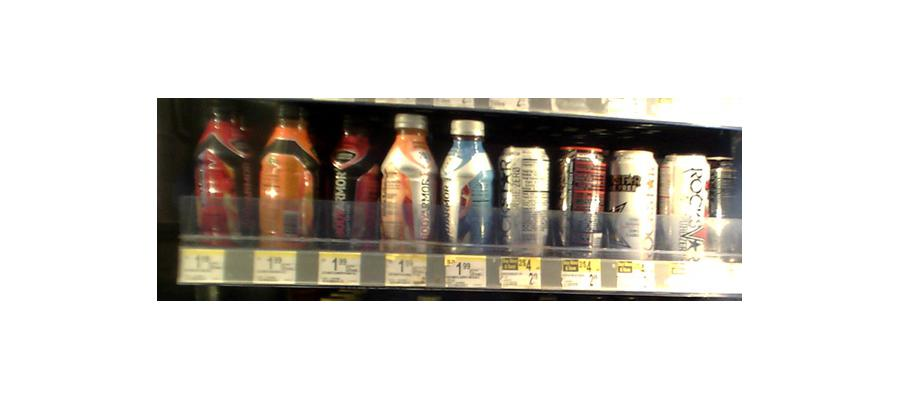bottle: (257, 101, 319, 244), (194, 98, 256, 241), (379, 109, 434, 250), (441, 115, 495, 252), (328, 116, 374, 244), (503, 144, 552, 256), (560, 145, 607, 255), (611, 151, 656, 261), (662, 152, 707, 260), (712, 155, 744, 262)
